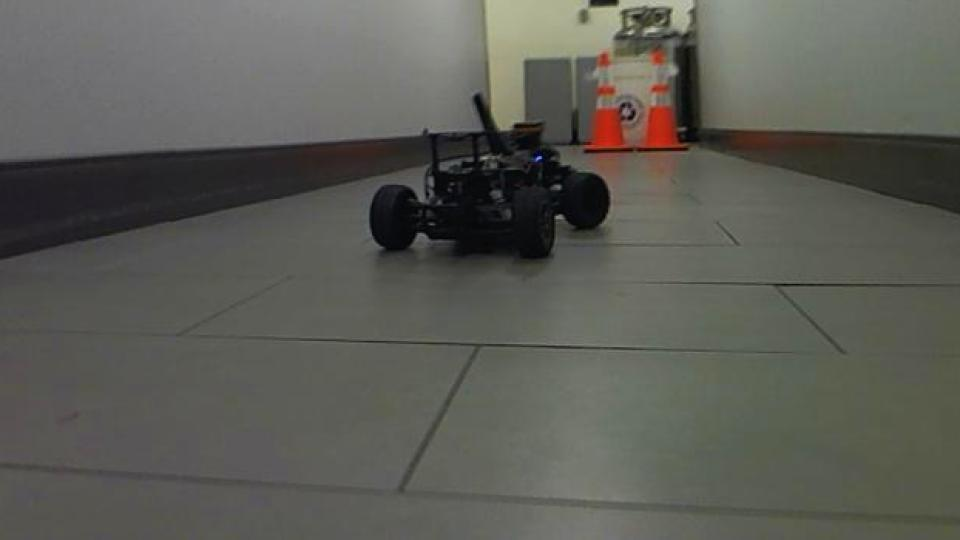car: (368, 90, 614, 262)
